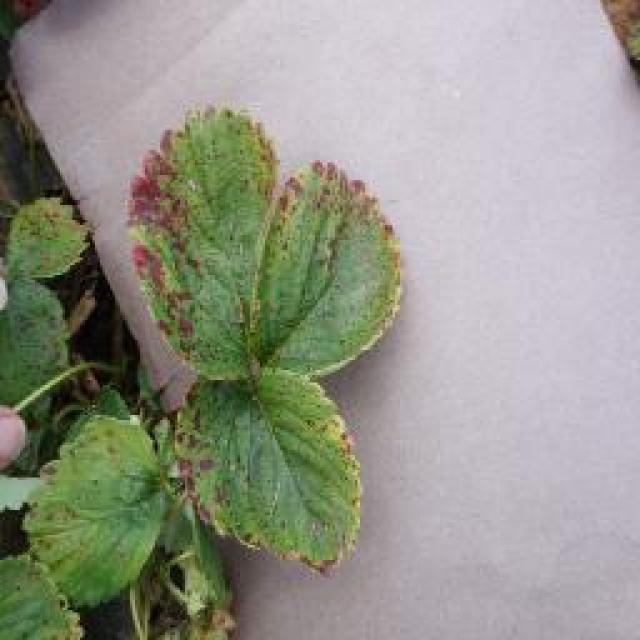Strawberry leaf scorch: (154, 145, 224, 352)
